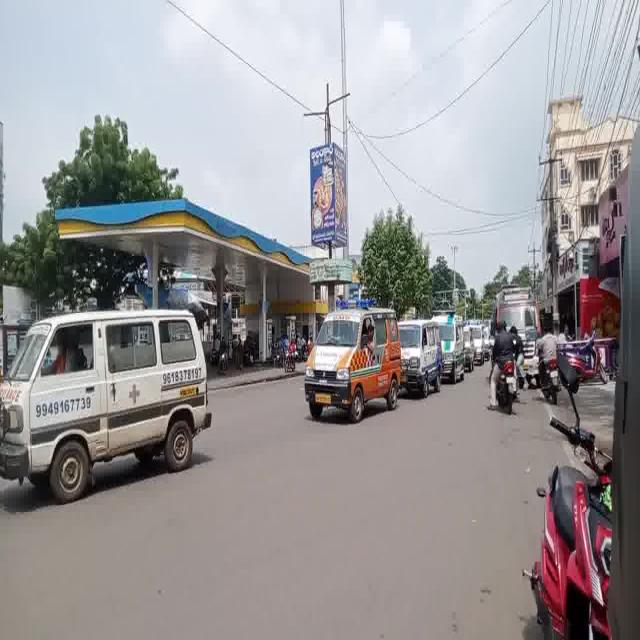ambulance: (2, 298, 222, 494), (303, 297, 400, 414), (402, 314, 442, 407), (490, 279, 550, 329), (445, 300, 464, 386), (474, 312, 488, 373), (467, 312, 472, 376)
